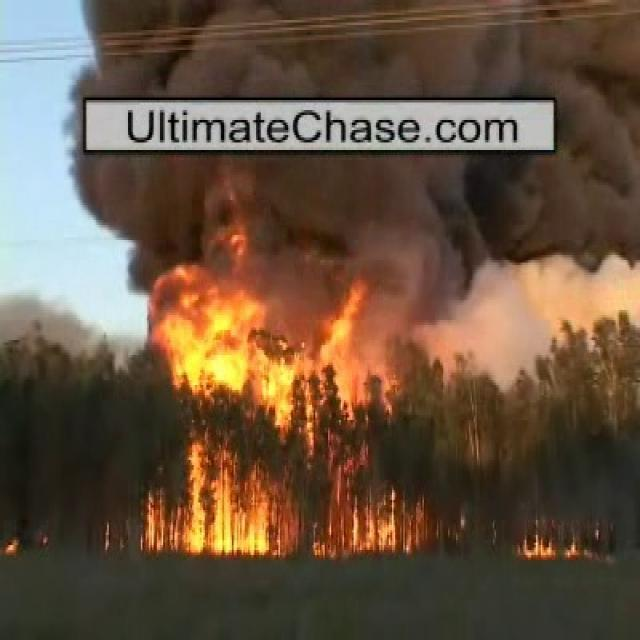Fire: (113, 8, 630, 262), (174, 299, 378, 556)
